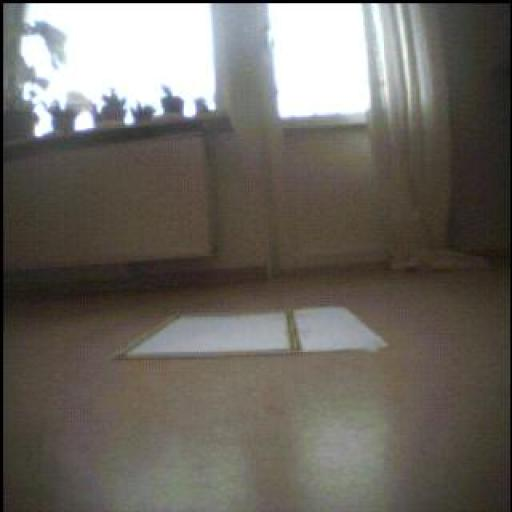Pad: (121, 309, 387, 360), (294, 308, 387, 353)
